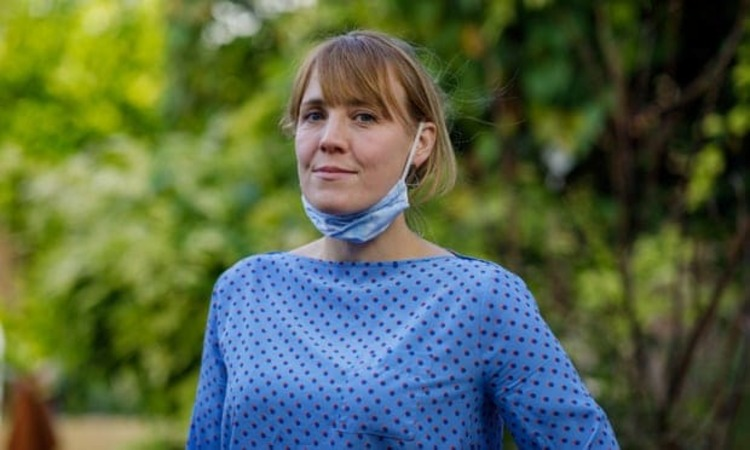with_incorrect_mask: (297, 59, 411, 237)
